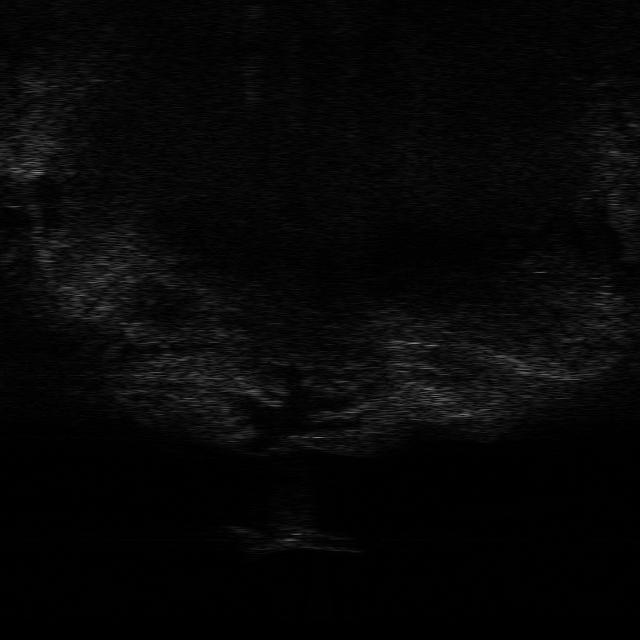plane: (224, 520, 364, 556)
